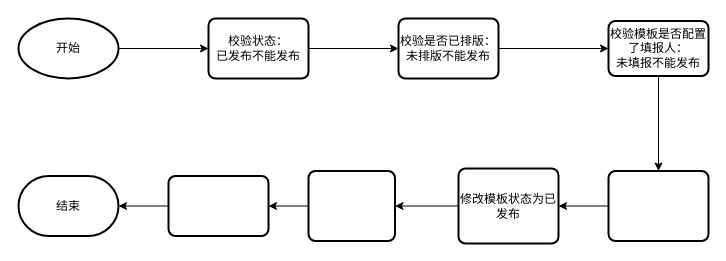
Image size: 726x261. Some labels were removed from this diagram. The shapes that lost their labels are listed below. From the top down, each one's centre as x and y in pixels, then its label:
At (x=218, y=205): "异步发送邮件或短信".
At (x=351, y=206): "添加填报数据分表".
At (x=658, y=206): "每个模板为它的 所有填报人派单".
